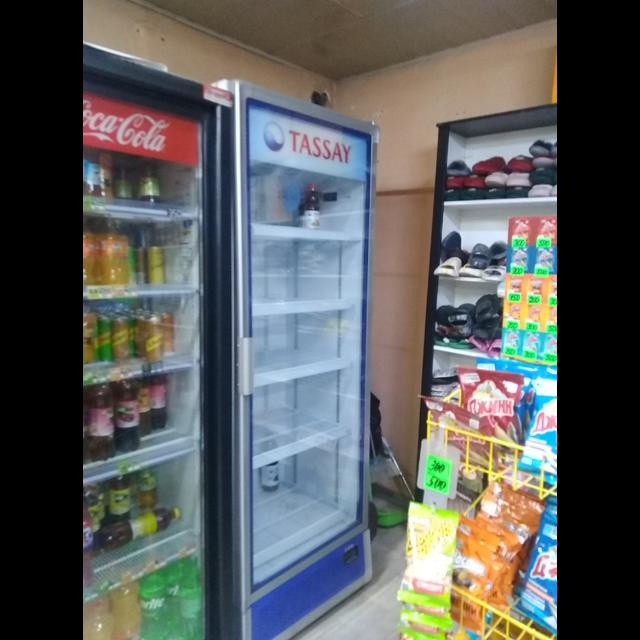Cooling-Display: (228, 79, 380, 639)
